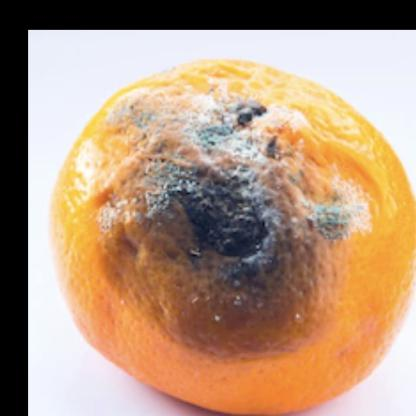rotten: (49, 57, 416, 416)
